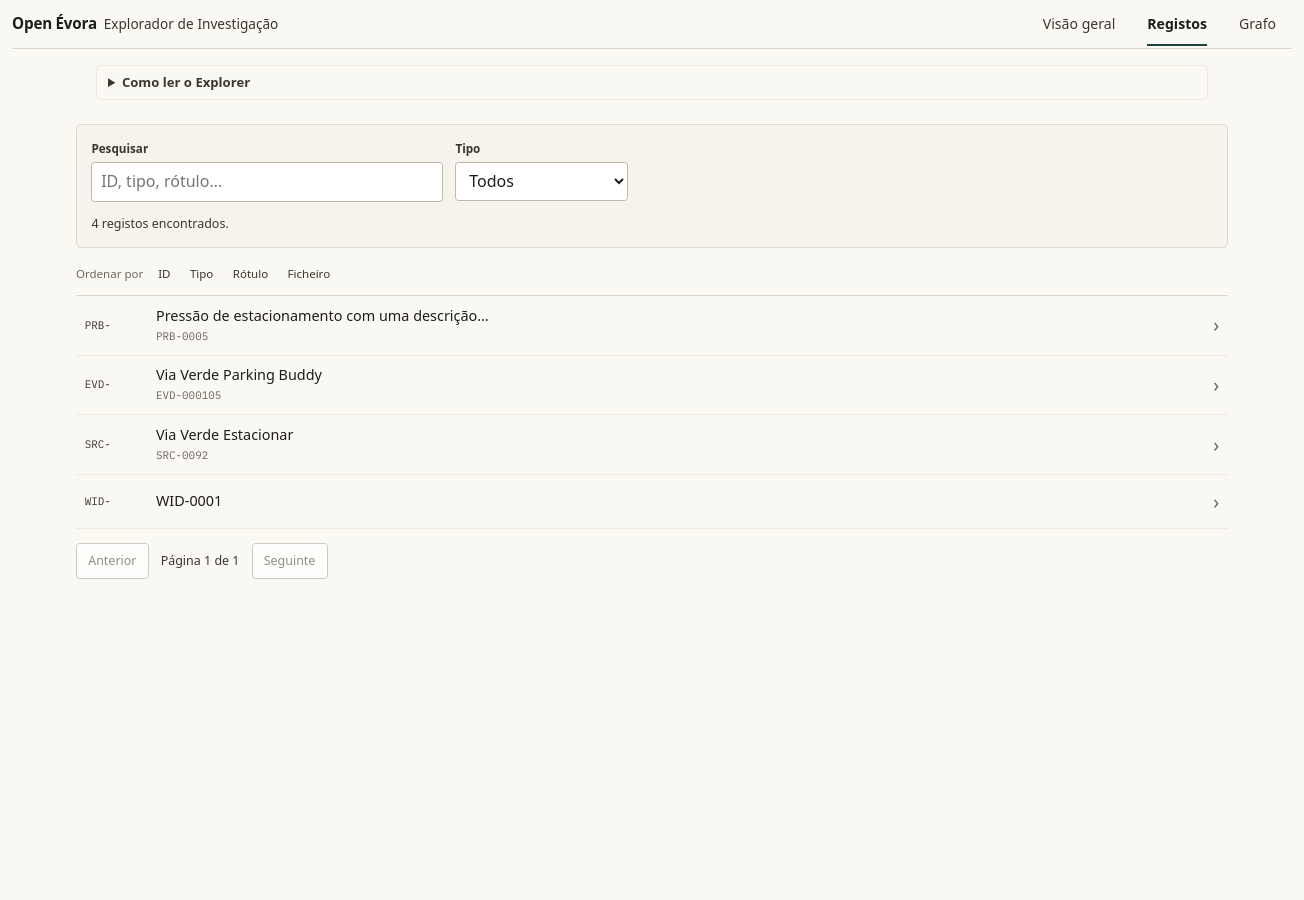
Test case: Explorer — Records workflow (fake provider) › resolves outgoing relationships to related summary labels from the index
The image size is (1304, 900).
Step 1. Click the button "PRB- Pressão de estacionamento com uma descrição… PRB-0005 ›" → click(322, 315), box [76, 296, 1228, 356]
(page scrolled)
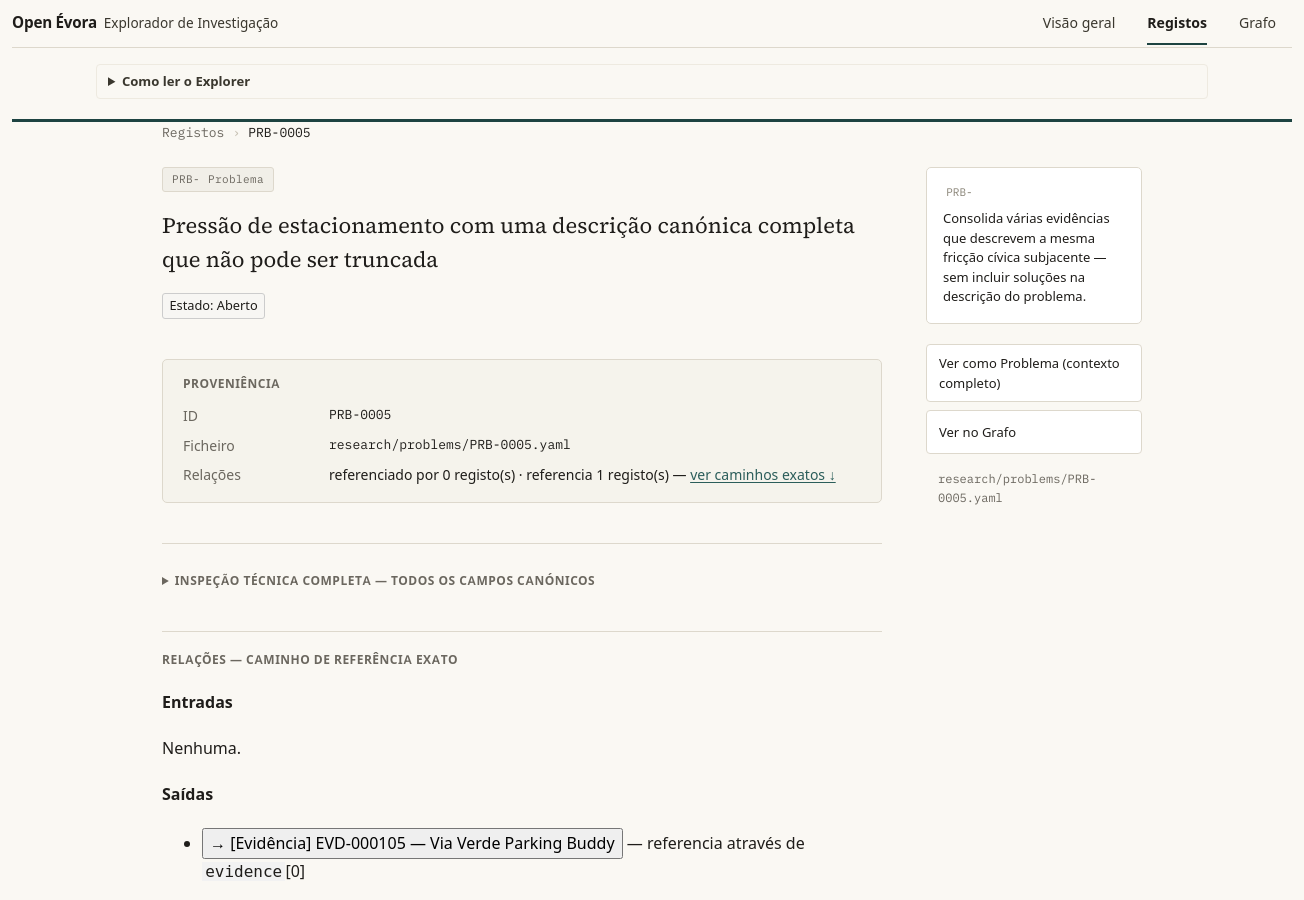
Result: the button "→ [Evidência] EVD-000105 — Via Verde Parking Buddy" is shown at [202, 828, 622, 859]
Result: the text "— referencia através de evidence[0]" is shown at [202, 832, 805, 882]
